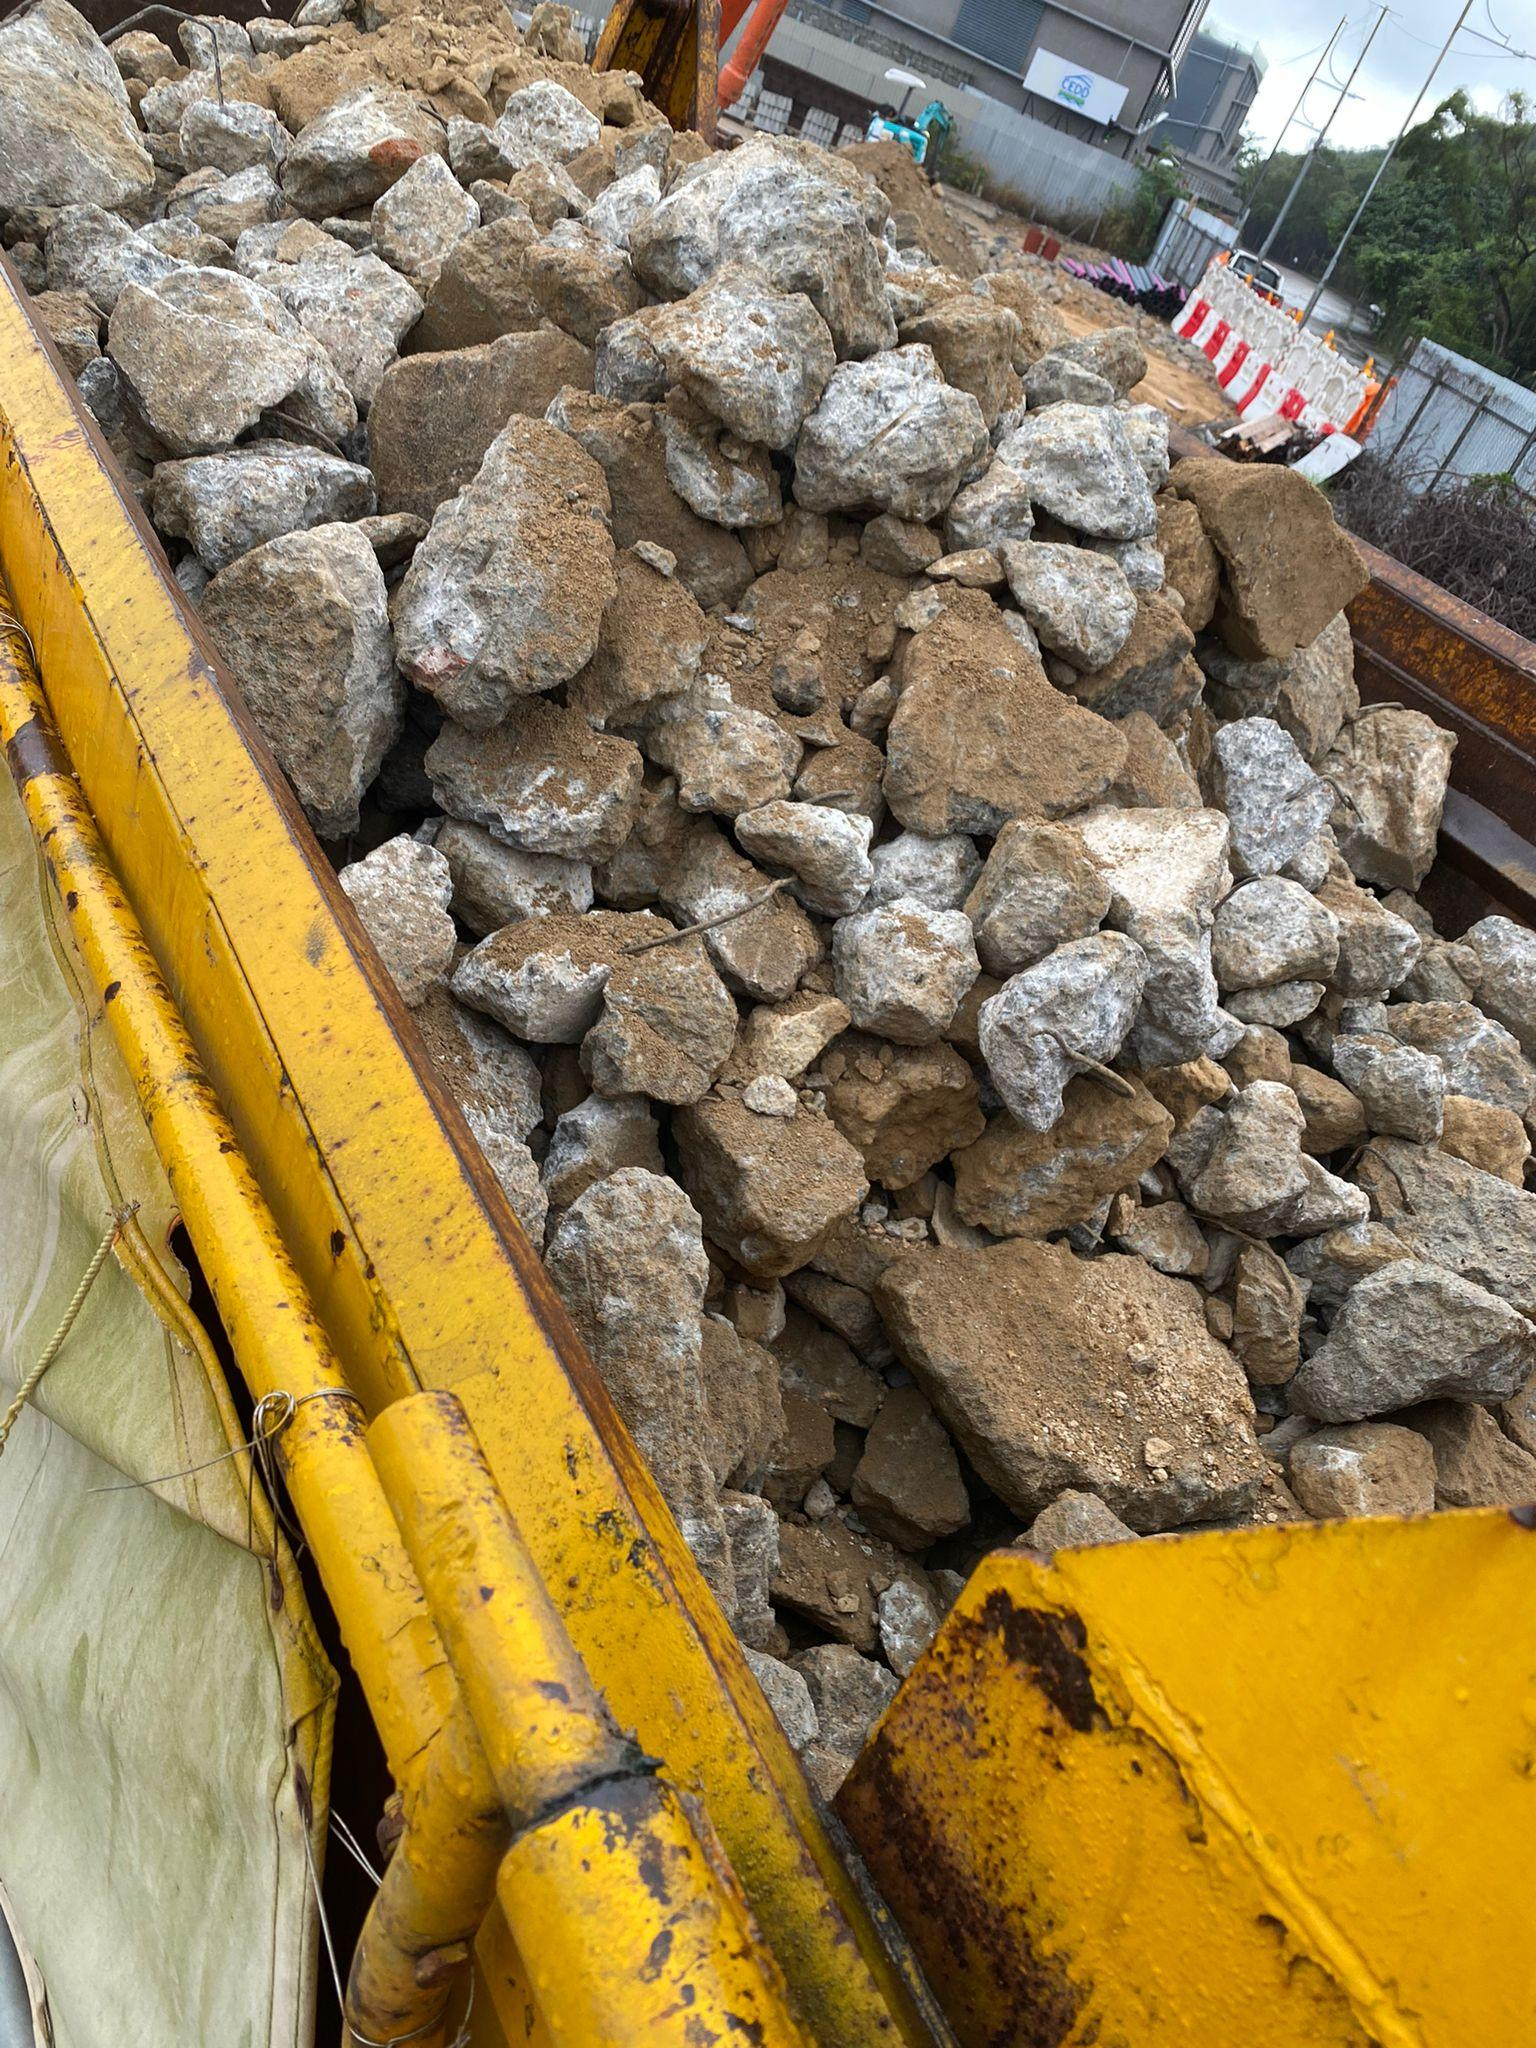stone: (3, 0, 1534, 1821), (387, 409, 619, 729)
